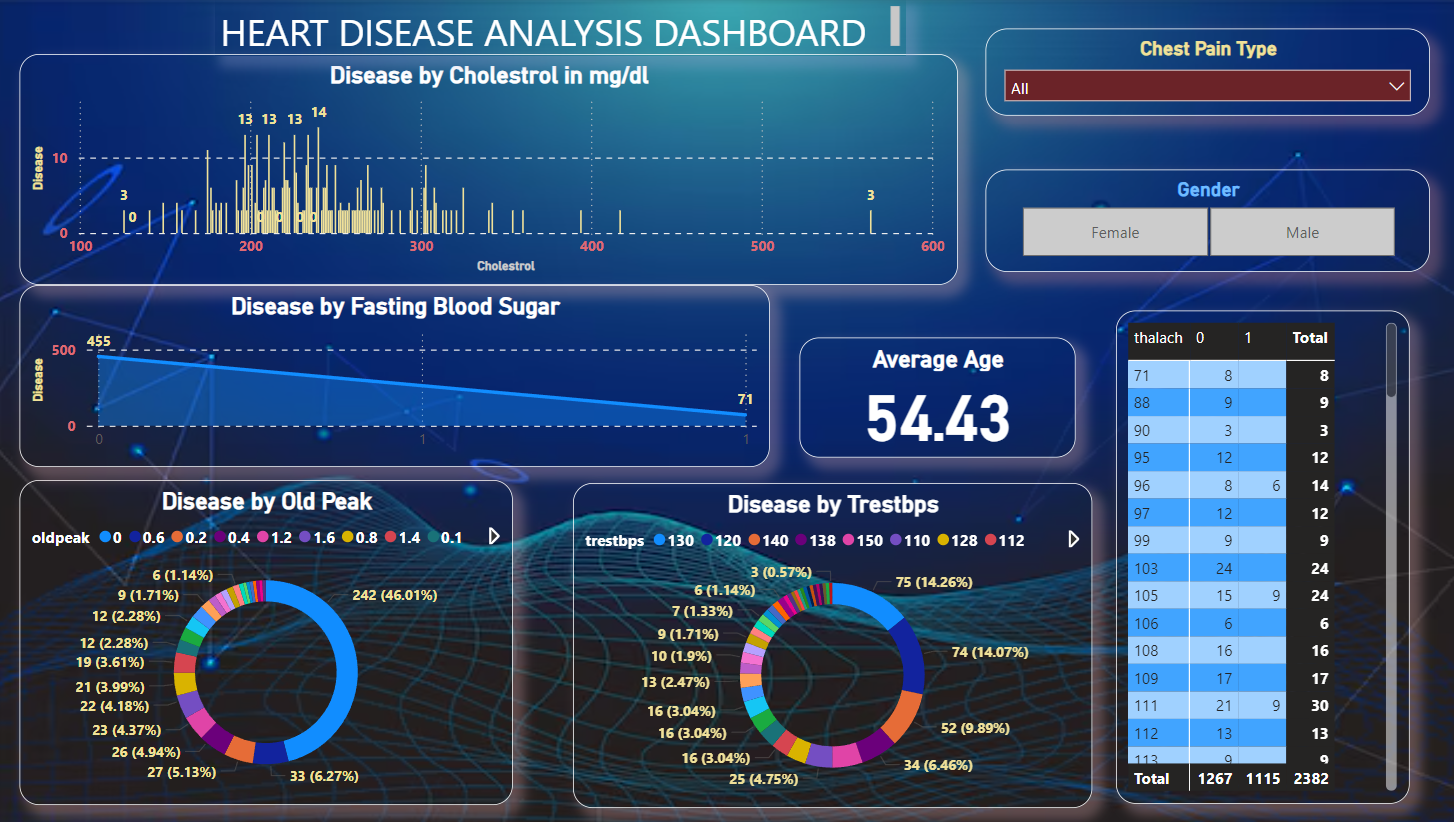

The dashboard page shown, as its layout file describes it:
{"tool":"powerbi","page":{"name":"Page 1","canvas":[1280,720],"ordinal":0},"visuals":[{"type":"card","title":"Average Age","fields":{"Values":["Avg(Heart Disease data.age)"]},"box":[702.6,293.8,240.8,104.5],"z":3000},{"type":"donutChart","title":"Disease by Old Peak","fields":{"Category":["Heart Disease data.oldpeak"],"Y":["Sum(Heart Disease data.target)"]},"box":[22.7,417.9,430,283.2],"z":6000},{"type":"columnChart","title":"Disease by Cholestrol in mg/dl","fields":{"Y":["Sum(Heart Disease data.target)"],"Category":["Heart Disease data.chol"]},"box":[22.7,46.9,817.7,201.4],"z":9000},{"type":"areaChart","title":"Disease by Fasting Blood Sugar","fields":{"Y":["Sum(Heart Disease data.target)"],"Category":["Heart Disease data.fbs"]},"box":[22.7,248.3,654.1,159],"z":10000},{"type":"pivotTable","title":"Attrition by Salary hike","fields":{"Values":["Sum(Heart Disease data.thal)"],"Columns":["Heart Disease data.target"],"Rows":["Heart Disease data.thalach"]},"box":[978.2,271,255.9,430],"z":11000},{"type":"slicer","title":"Gender","fields":{"Values":["Heart Disease data.gender"]},"box":[864.6,148.4,387.6,89.3],"z":12000},{"type":"slicer","title":"Chest Pain Type ","fields":{"Values":["Heart Disease data.cp"]},"box":[864.6,24.2,387.6,75.7],"z":13000},{"type":"donutChart","title":"Disease by Trestbps","fields":{"Y":["Sum(Heart Disease data.target)"],"Category":["Heart Disease data.trestbps"]},"box":[504.2,420.9,452.7,283.2],"z":14001},{"type":"textbox","box":[192.3,0,602.7,48.5],"z":14002}]}

Visuals, with their boxes in screenshot pixels (x1, y1, x2, y2), scaled from the page's 1280x720 canvas onto the 1454x822 screenshot:
"Average Age" card: <bbox>798, 335, 1072, 455</bbox>
"Disease by Old Peak" donutChart: <bbox>26, 477, 514, 800</bbox>
"Disease by Cholestrol in mg/dl" columnChart: <bbox>26, 54, 955, 283</bbox>
"Disease by Fasting Blood Sugar" areaChart: <bbox>26, 283, 769, 465</bbox>
"Attrition by Salary hike" pivotTable: <bbox>1111, 309, 1402, 800</bbox>
"Gender" slicer: <bbox>982, 169, 1422, 271</bbox>
"Chest Pain Type " slicer: <bbox>982, 28, 1422, 114</bbox>
"Disease by Trestbps" donutChart: <bbox>573, 481, 1087, 804</bbox>
textbox: <bbox>218, 0, 903, 55</bbox>
